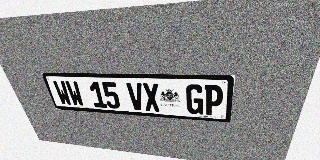1: (87, 81, 108, 108)
5: (101, 82, 121, 109)
G: (186, 84, 204, 115)
P: (204, 85, 224, 116)
V: (126, 82, 145, 111)
W: (52, 80, 73, 106), (64, 81, 85, 107)
X: (142, 83, 161, 112)
